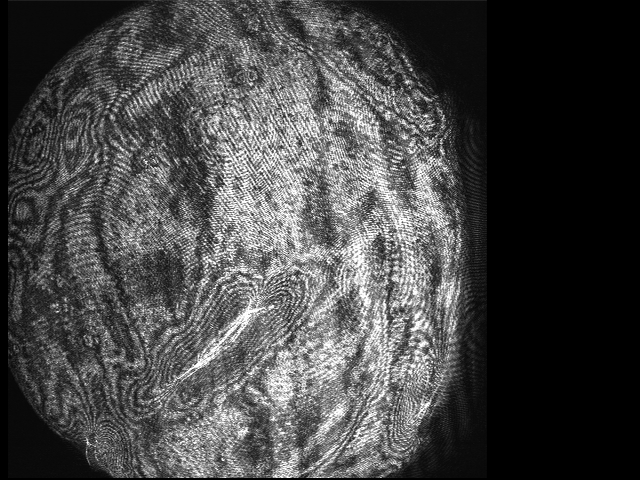plume: (138, 280, 307, 399)
